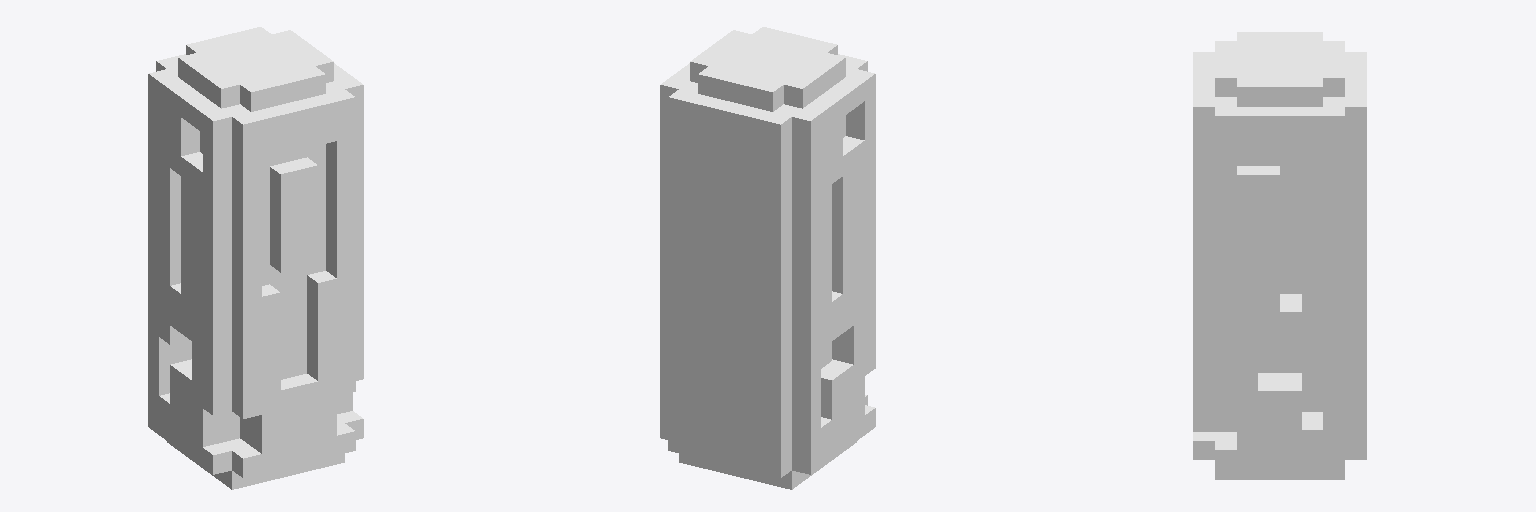
The model's file is female_mecha_forearm.obj.
3 views of the same model, side by side, from view 1: azimuth 30°, elevation 25°; view 2: azimuth 150°, elevation 25°; view 3: azimuth 270°, elevation 25° (orthographic).
Visible parts, largest first — view 1: female_mecha_forearm; view 2: female_mecha_forearm; view 3: female_mecha_forearm.
Boxes of the visible parts, <box> form: female_mecha_forearm: <box>148,27,363,489</box>; female_mecha_forearm: <box>660,27,875,489</box>; female_mecha_forearm: <box>1193,32,1366,479</box>.
Bounding box in the file's own units: 8 × 20 × 8.